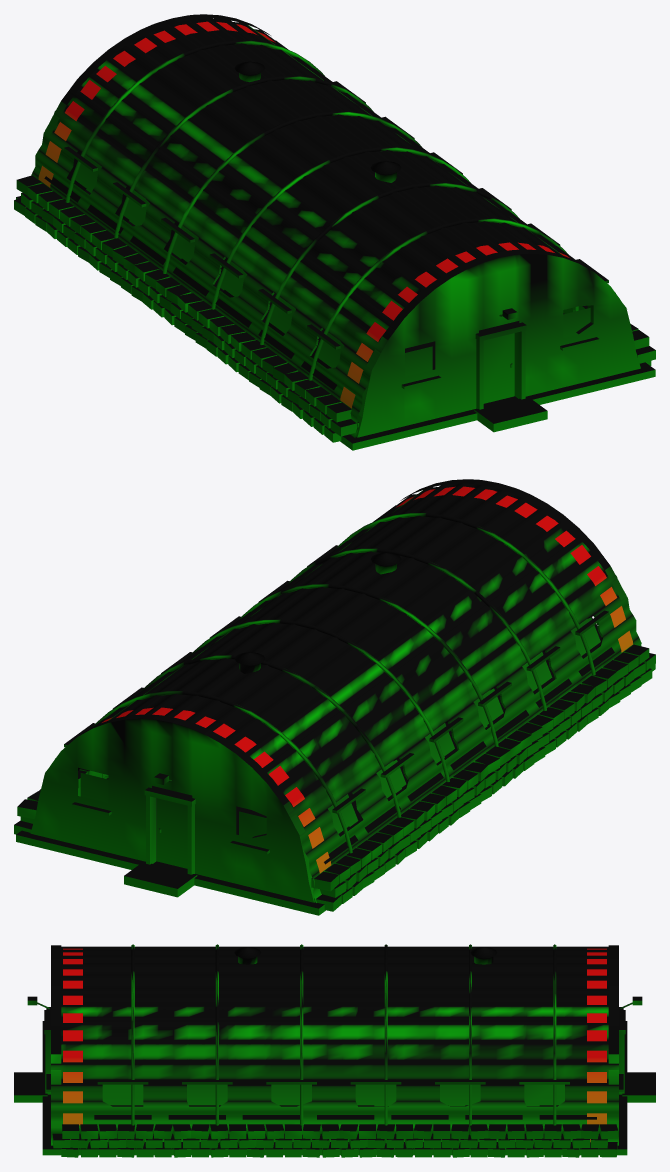
File: quonset.glb
The picture shows the model from 3 angles, top to bottom: view 1: azimuth 30°, elevation 25°; view 2: azimuth 150°, elevation 25°; view 3: azimuth 270°, elevation 25°; orthographic projection. The views are drawn at different scales.
Parts seen in each view (by area): view 1: lod0; view 2: lod0; view 3: lod0.
Part boxes in pixels (bbox=[...]): lod0: bbox=[14, 14, 655, 450]; lod0: bbox=[14, 479, 655, 915]; lod0: bbox=[14, 944, 655, 1157].
Size of what is drawn, in the model's own units: 9.51 by 4.71 by 19.03.
